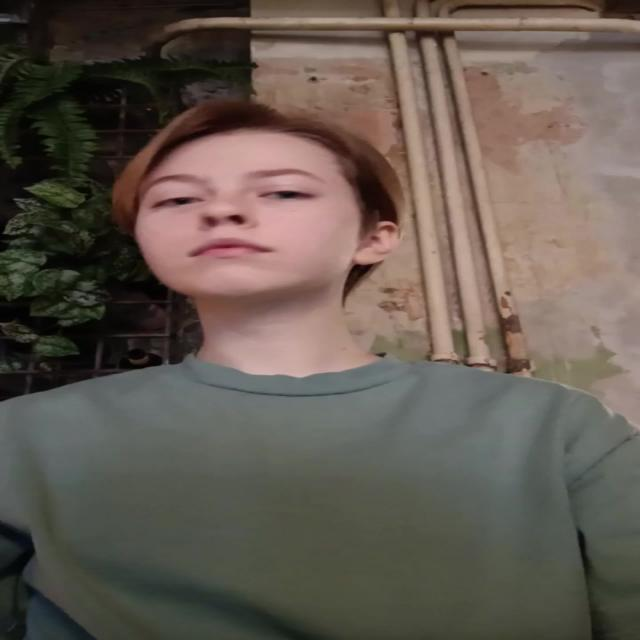earlobe: (351, 250, 375, 266)
eye: (259, 188, 319, 203), (154, 197, 207, 208)
nose: (203, 223, 252, 239)
wholeear: (351, 222, 399, 266)
